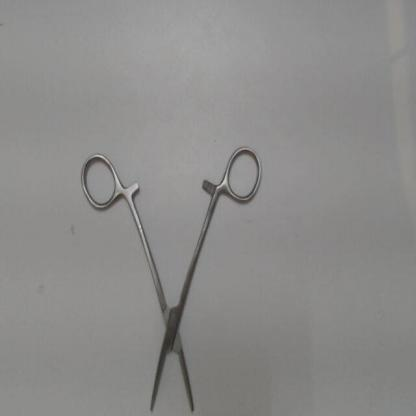Mayo Needle Holder: (75, 139, 268, 415)
